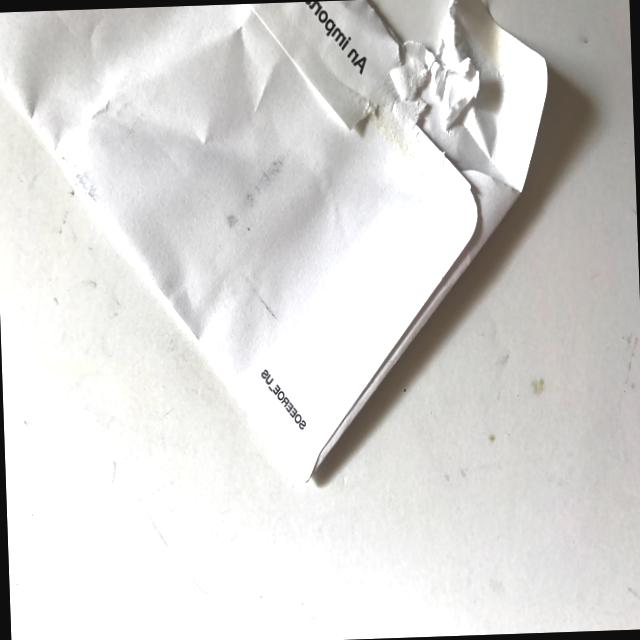Paper: (0, 0, 581, 540)
